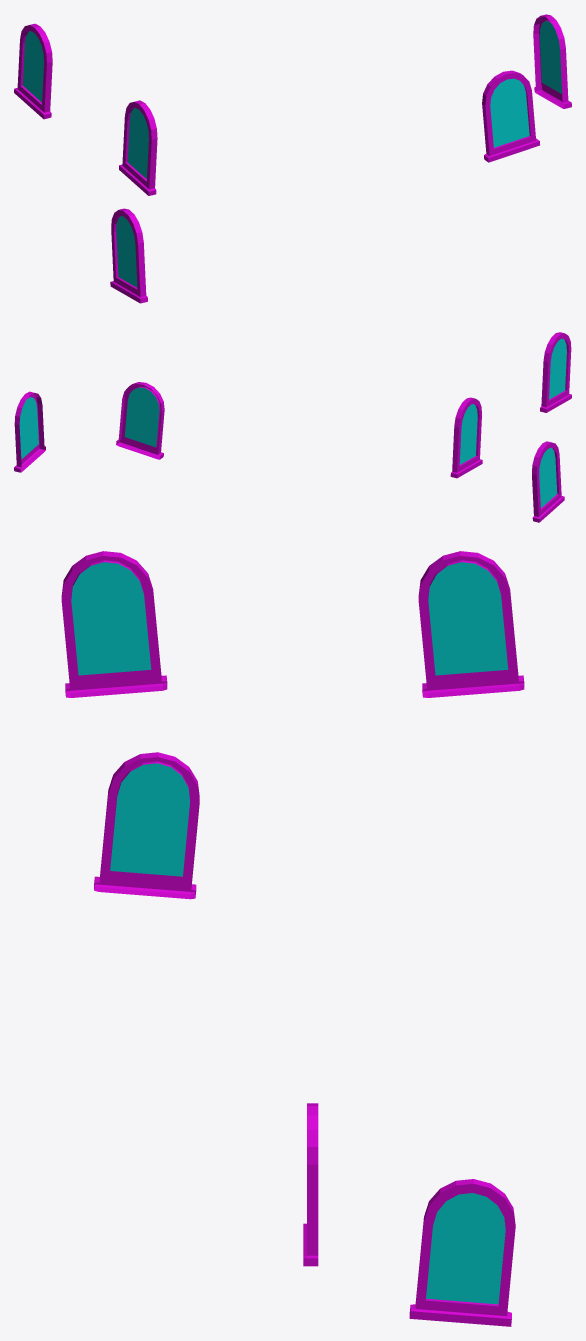
The model's file is RubbishWindows.fbx.
The picture shows the model from 3 angles, top to bottom: view 1: azimuth 30°, elevation 25°; view 2: azimuth 150°, elevation 25°; view 3: azimuth 270°, elevation 25°; orthographic projection. The views are drawn at different scales.
Parts seen in each view (by area): view 1: RubbishWindows; view 2: RubbishWindows; view 3: RubbishWindows.
Part boxes in pixels (x1,y1,x2,y2): RubbishWindows: [14, 14, 571, 303]; RubbishWindows: [14, 332, 571, 522]; RubbishWindows: [61, 551, 524, 1326].
Bounding box in the file's own units: 15.39 × 5.66 × 6.91.
